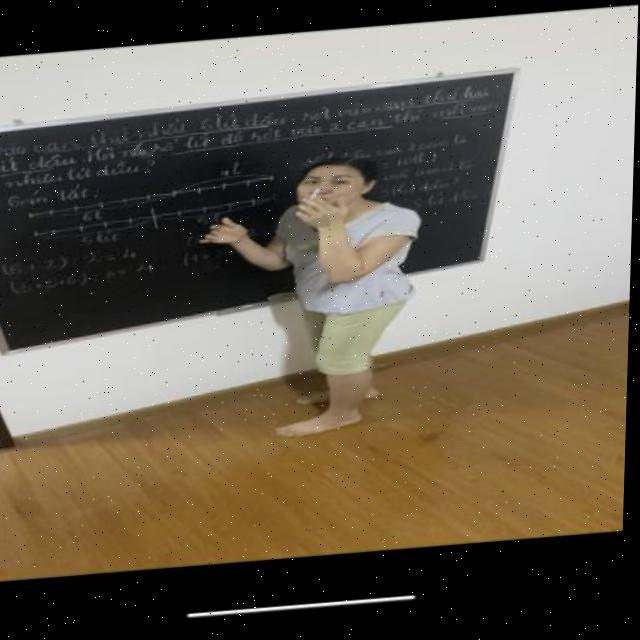cigarette: (311, 191, 325, 205)
